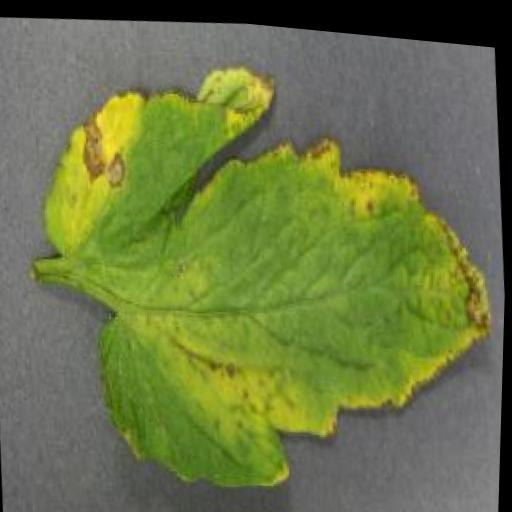Bacterial Spot: (24, 32, 511, 512)
